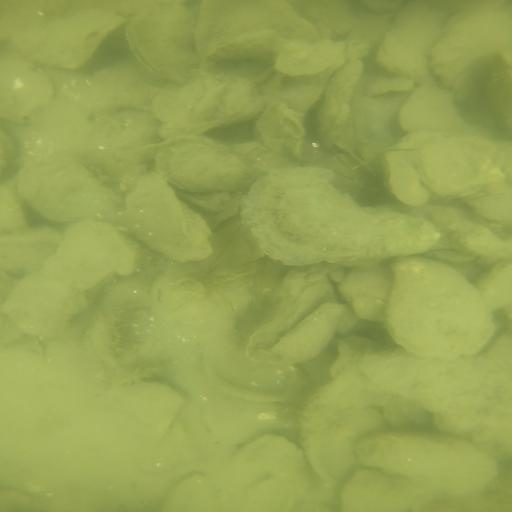Oyster-Closed: (237, 164, 446, 267), (383, 254, 498, 360), (353, 426, 500, 496), (115, 176, 215, 262), (15, 160, 130, 224), (156, 77, 266, 139), (127, 1, 200, 87), (376, 1, 446, 82), (157, 142, 257, 195), (272, 304, 348, 362), (417, 137, 497, 191), (402, 88, 467, 134), (203, 30, 281, 63), (435, 12, 467, 90)
Oyster-Open: (283, 107, 305, 137)
